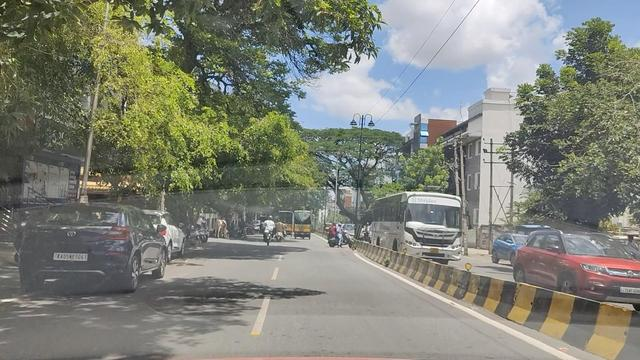LMV: (21, 202, 137, 284), (321, 219, 352, 248), (263, 213, 274, 245)
